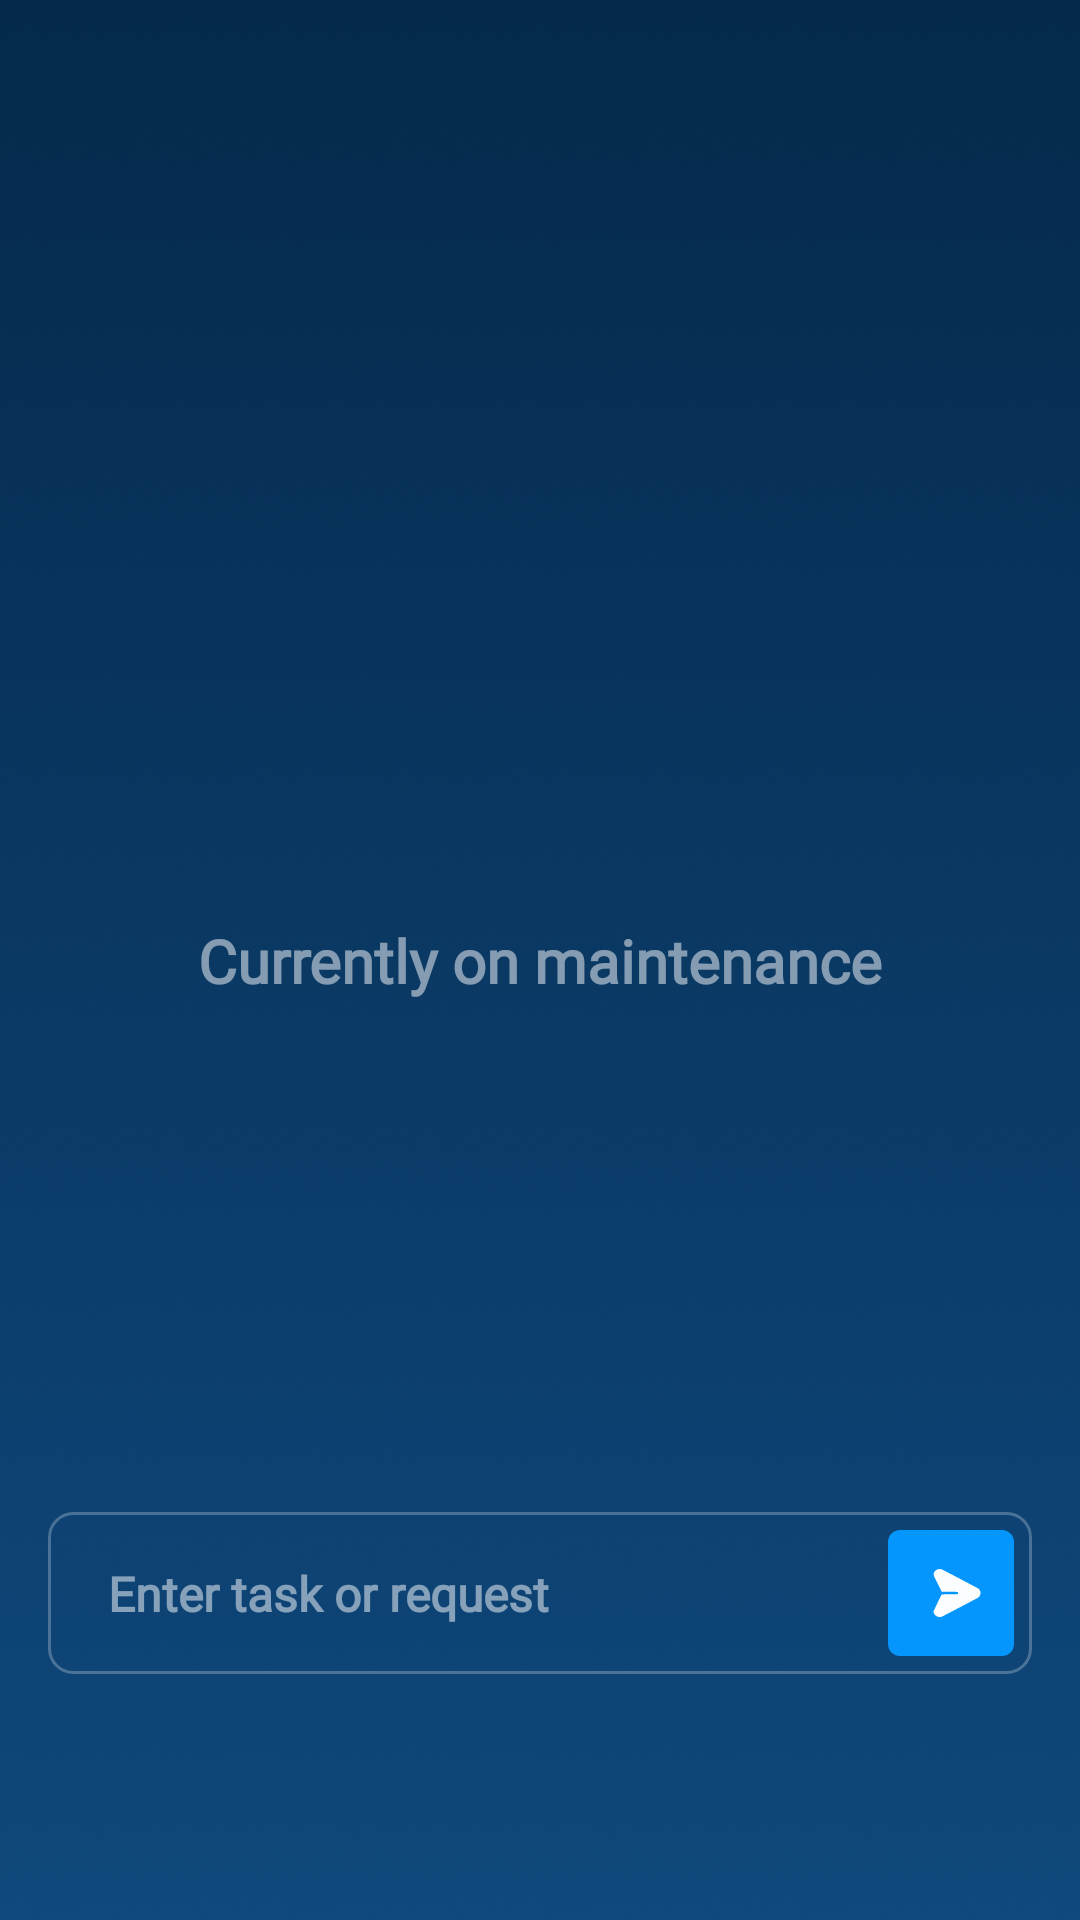

Icons on this 1080*1920 Android screen, each with its box as (x1, y1, x2, y2):
send chat: (888, 1530, 1014, 1656)
